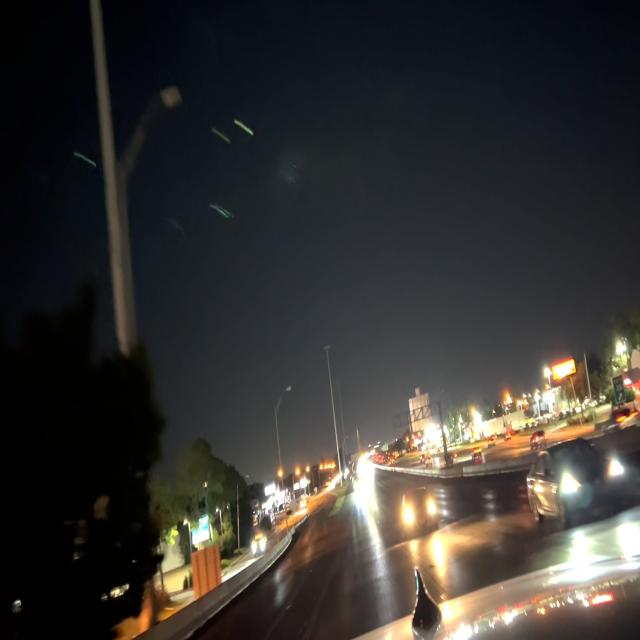back-of-sign: (192, 543, 222, 600)
